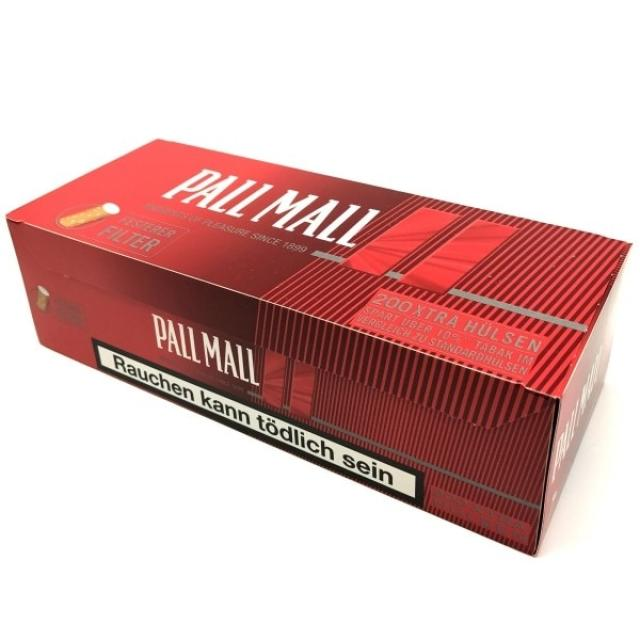pallmall: (3, 130, 640, 567)
